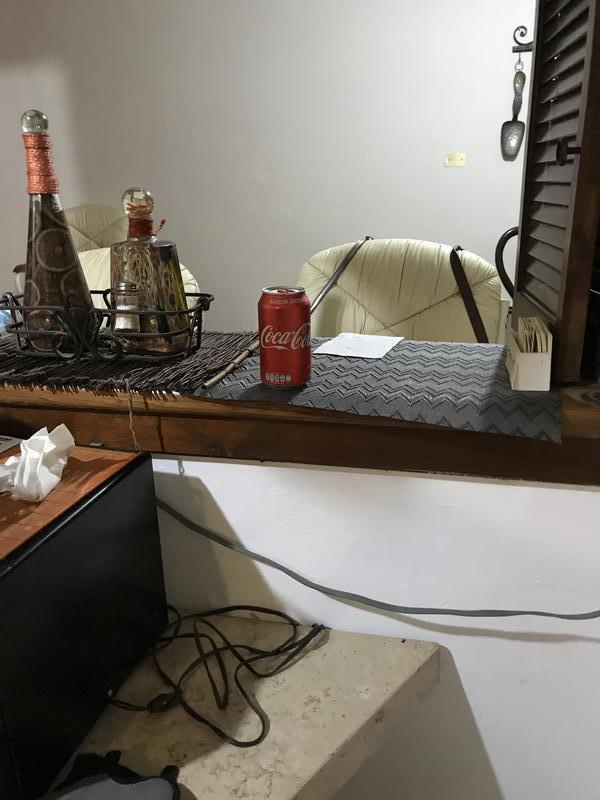coca_cola: (257, 288, 311, 385)
